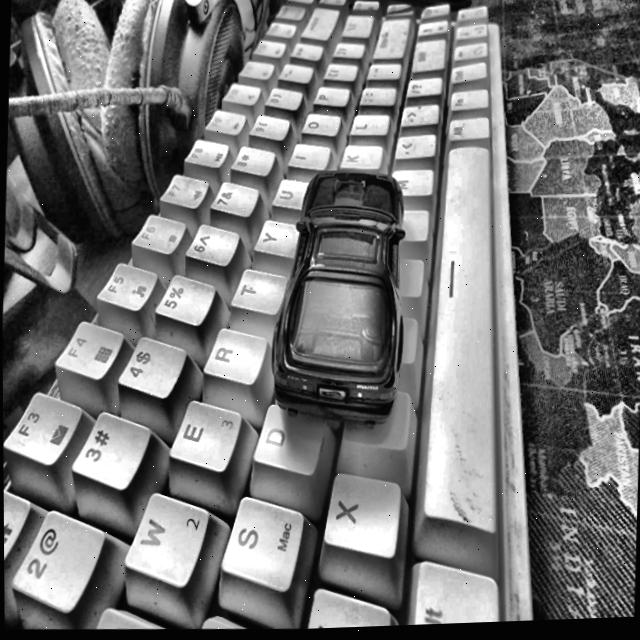car: (266, 167, 410, 431)
